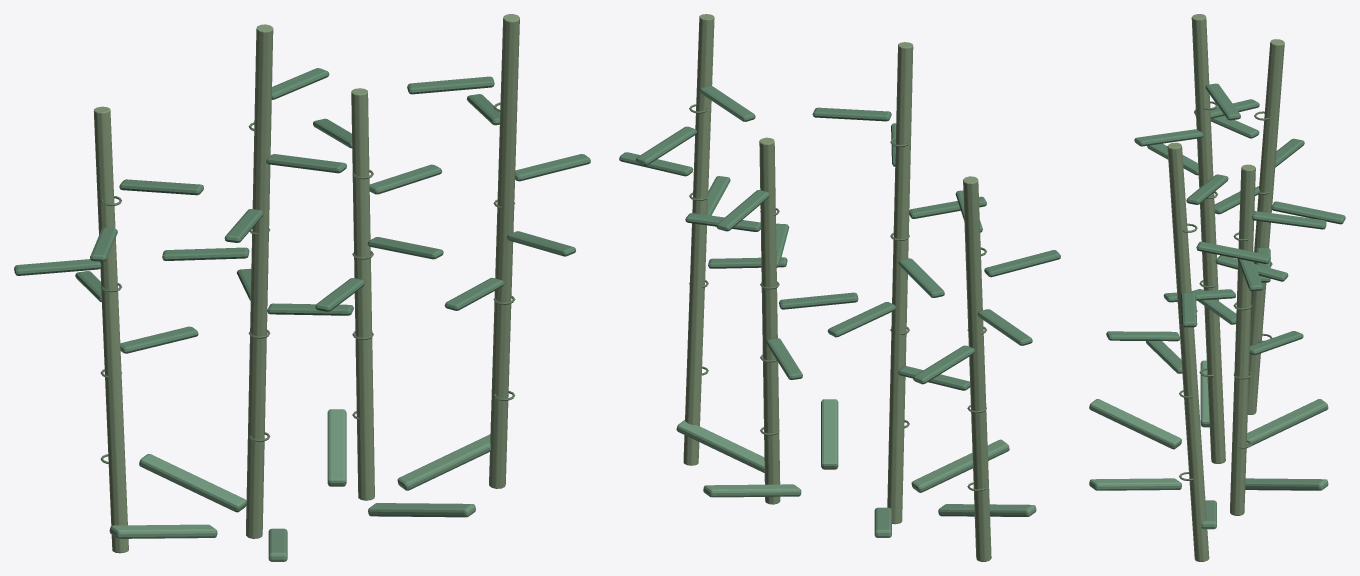
Rendered from env_qinglan_bamboo_set_a.glb.
3 views of the same model, side by side, from view 1: azimuth 30°, elevation 25°; view 2: azimuth 150°, elevation 25°; view 3: azimuth 270°, elevation 25° (orthographic). The views are drawn at different scales.
Visible parts, largest first — view 1: bamboo_trunk_1, bamboo_trunk_3, bamboo_trunk_0, bamboo_trunk_2, fern_frond_2, fern_frond_0, fern_frond_1, fern_frond_5, fern_frond_3, bamboo_leaf_3_4, bamboo_leaf_1_1, bamboo_leaf_0_2 (+11 smaller); view 2: bamboo_trunk_1, bamboo_trunk_3, bamboo_trunk_0, bamboo_trunk_2, fern_frond_0, fern_frond_4, fern_frond_5, fern_frond_1, fern_frond_3, bamboo_leaf_0_3, bamboo_leaf_2_1, bamboo_leaf_1_0 (+14 smaller); view 3: bamboo_trunk_1, bamboo_trunk_3, bamboo_trunk_2, bamboo_trunk_0, fern_frond_4, fern_frond_2, fern_frond_5, fern_frond_1, bamboo_leaf_3_3, bamboo_leaf_0_1, bamboo_leaf_2_4, bamboo_leaf_3_1 (+17 smaller).
Part boxes in pixels (bbox=[...]): bamboo_trunk_1: bbox=[246, 24, 273, 538]; bamboo_trunk_3: bbox=[489, 14, 519, 488]; bamboo_trunk_0: bbox=[93, 106, 128, 553]; bamboo_trunk_2: bbox=[351, 88, 374, 500]; fern_frond_2: bbox=[139, 454, 246, 512]; fern_frond_0: bbox=[397, 434, 490, 490]; fern_frond_1: bbox=[327, 409, 346, 486]; fern_frond_5: bbox=[368, 503, 475, 517]; fern_frond_3: bbox=[109, 524, 217, 538]; bamboo_leaf_3_4: bbox=[407, 76, 494, 94]; bamboo_leaf_1_1: bbox=[162, 247, 249, 260]; bamboo_leaf_0_2: bbox=[14, 259, 101, 275]; bamboo_trunk_1: bbox=[887, 42, 913, 524]; bamboo_trunk_3: bbox=[683, 14, 714, 465]; bamboo_trunk_0: bbox=[963, 176, 991, 561]; bamboo_trunk_2: bbox=[759, 137, 780, 504]; fern_frond_0: bbox=[676, 420, 764, 472]; fern_frond_4: bbox=[911, 439, 1009, 492]; fern_frond_5: bbox=[821, 399, 838, 469]; fern_frond_1: bbox=[703, 484, 801, 497]; fern_frond_3: bbox=[938, 504, 1036, 516]; bamboo_leaf_0_3: bbox=[984, 250, 1060, 277]; bamboo_leaf_2_1: bbox=[779, 292, 858, 309]; bamboo_leaf_1_0: bbox=[827, 302, 895, 337]; bamboo_trunk_1: bbox=[1191, 14, 1225, 463]; bamboo_trunk_3: bbox=[1167, 142, 1209, 561]; bamboo_trunk_2: bbox=[1230, 164, 1255, 515]; bamboo_trunk_0: bbox=[1247, 39, 1284, 414]; fern_frond_4: bbox=[1089, 399, 1181, 449]; fern_frond_2: bbox=[1246, 399, 1328, 446]; fern_frond_5: bbox=[1089, 478, 1181, 490]; fern_frond_1: bbox=[1245, 478, 1328, 490]; bamboo_leaf_3_3: bbox=[1196, 241, 1270, 263]; bamboo_leaf_0_1: bbox=[1271, 201, 1345, 224]; bamboo_leaf_2_4: bbox=[1252, 211, 1326, 229]; bamboo_leaf_3_1: bbox=[1106, 331, 1180, 341].
Size of the model in its own units: 3.74 by 3.6 by 1.88.
